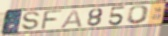5: (108, 5, 127, 26)
8: (86, 8, 105, 27)
A: (59, 9, 86, 29)
F: (40, 9, 65, 31)
O: (126, 4, 152, 25)
S: (21, 11, 42, 31)
